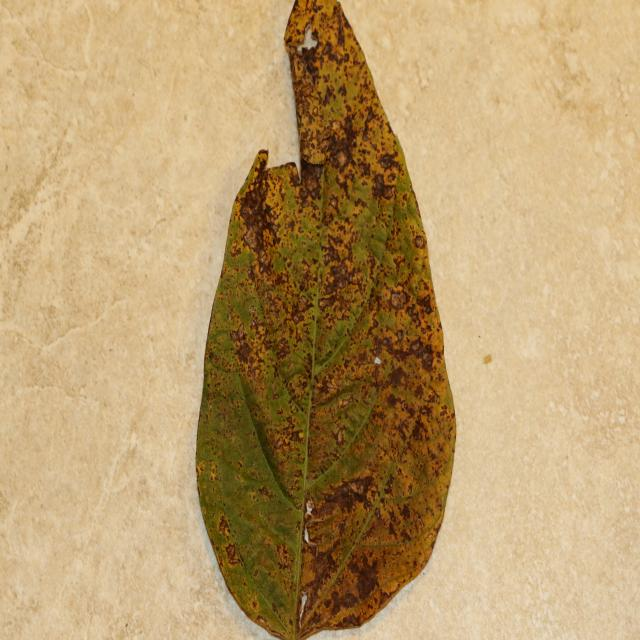Bacterial_Blight: (307, 479, 376, 541), (230, 311, 286, 385), (291, 282, 347, 325), (209, 355, 245, 418), (390, 328, 437, 375), (319, 58, 354, 116), (269, 399, 305, 454), (321, 260, 360, 298), (389, 456, 421, 499), (329, 220, 358, 265), (242, 206, 267, 256), (327, 133, 357, 174), (347, 231, 371, 276), (353, 564, 377, 601), (300, 164, 323, 201), (264, 289, 285, 319), (386, 365, 408, 390), (234, 336, 251, 365), (241, 196, 259, 222), (331, 421, 349, 446), (378, 309, 397, 332), (292, 302, 309, 325), (335, 13, 346, 48), (373, 172, 390, 194), (230, 326, 246, 348), (371, 359, 384, 386), (411, 418, 426, 441), (381, 153, 399, 171), (383, 264, 397, 287), (417, 293, 433, 313), (324, 244, 340, 264), (277, 543, 291, 565), (225, 543, 239, 564), (406, 304, 420, 324), (390, 291, 405, 309), (400, 502, 413, 522), (323, 85, 335, 106), (383, 473, 395, 494), (348, 481, 366, 495), (218, 516, 230, 536), (339, 396, 354, 409), (258, 484, 271, 498), (298, 294, 311, 307), (274, 436, 285, 450), (413, 234, 424, 248), (209, 464, 217, 482), (396, 466, 407, 479), (330, 195, 339, 209)
Soybean: (194, 0, 458, 640)
